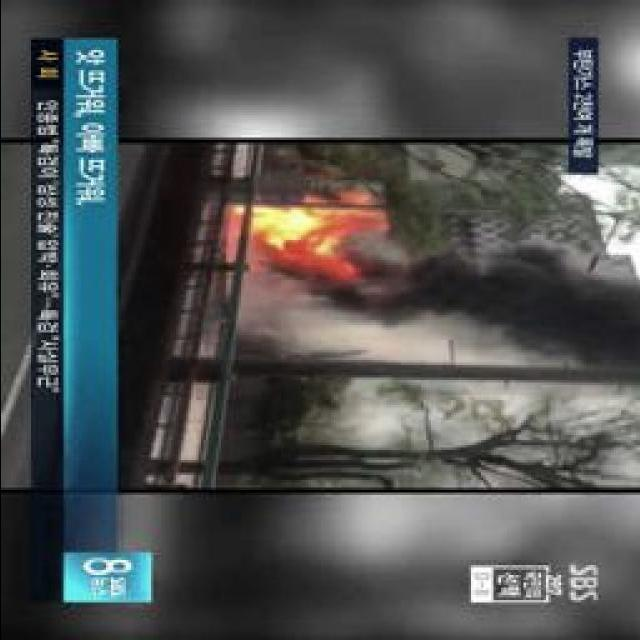Fire: (235, 196, 385, 276)
